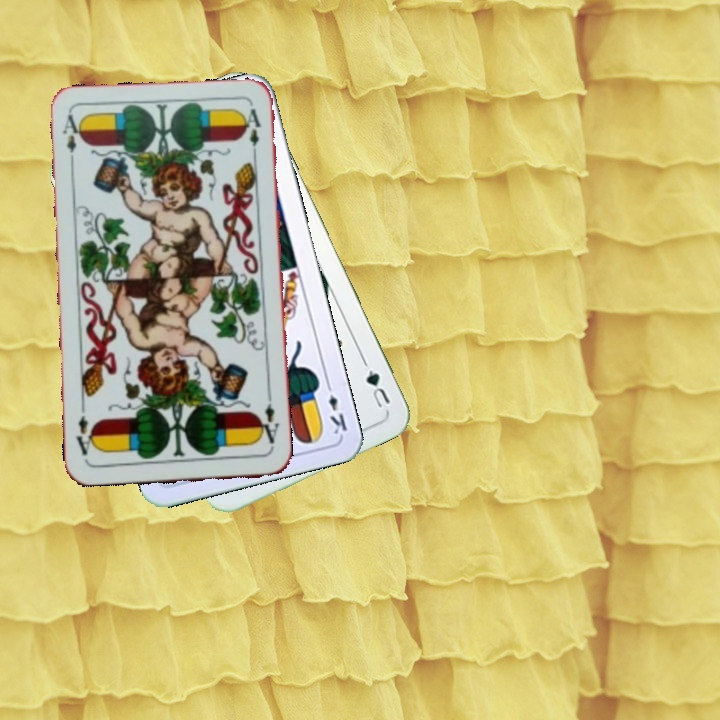EA: (58, 110, 85, 169), (255, 393, 281, 452)
EK: (322, 378, 350, 437)
GU: (362, 365, 393, 411)
